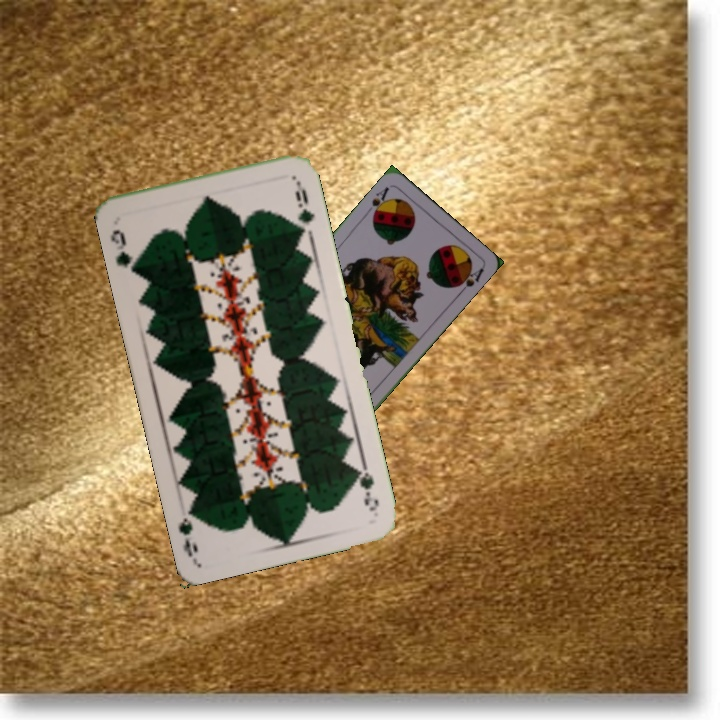G9: (351, 458, 382, 514), (106, 225, 140, 275)
SA: (368, 182, 392, 221)
